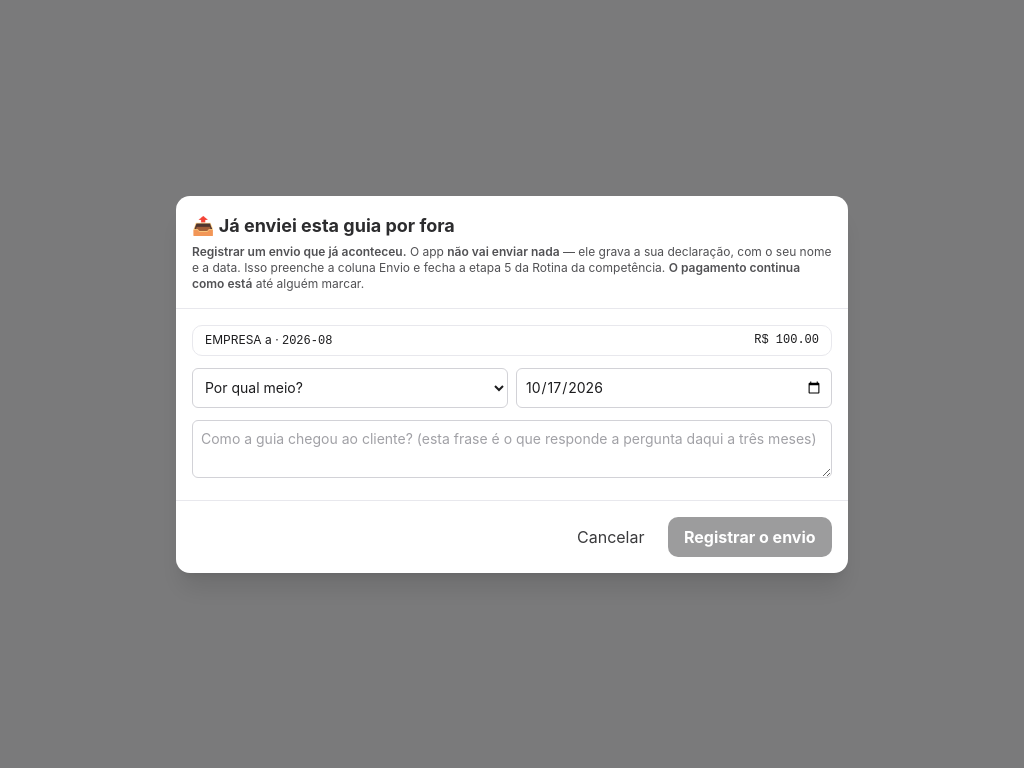
📤 a porta do envio declarado na Central de DAS › a recusa do backend (400 com a frase do que falta) aparece na tela e nada fecha
Select "WhatsApp pessoal / do escritório" in the dropdown named "Por qual meio?" at point(350, 388), box [192, 368, 508, 408]
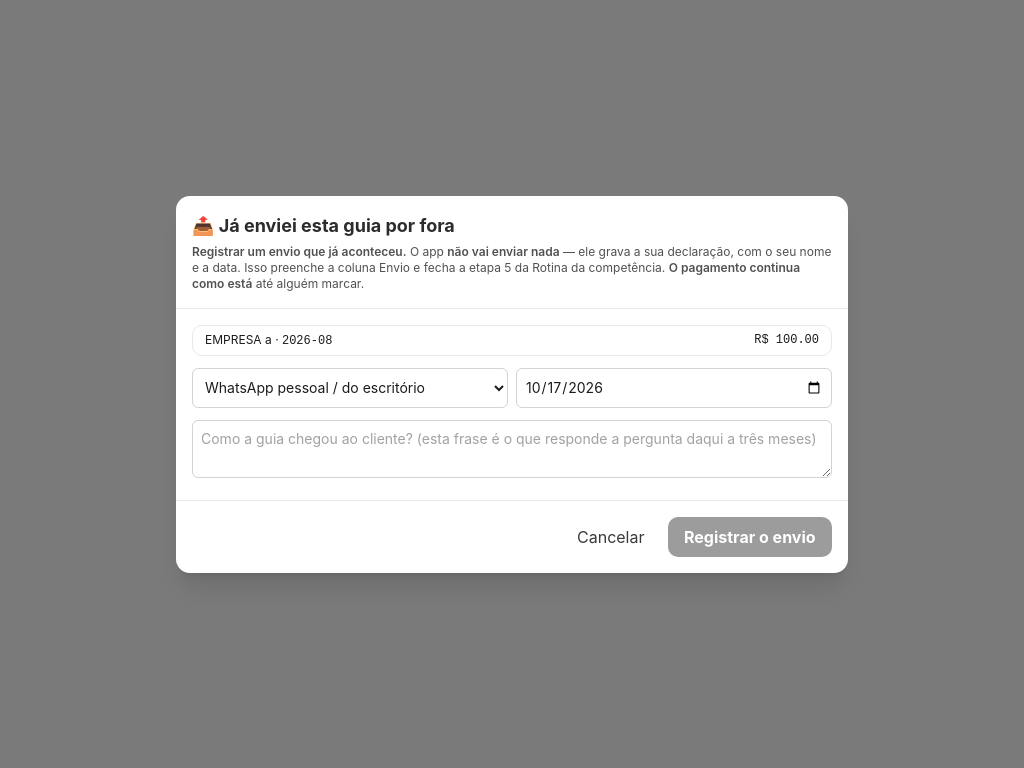
Replace the text in the text box labelled "Como a guia chegou ao cliente?" with "curto" at point(512, 448), box [192, 420, 832, 478]
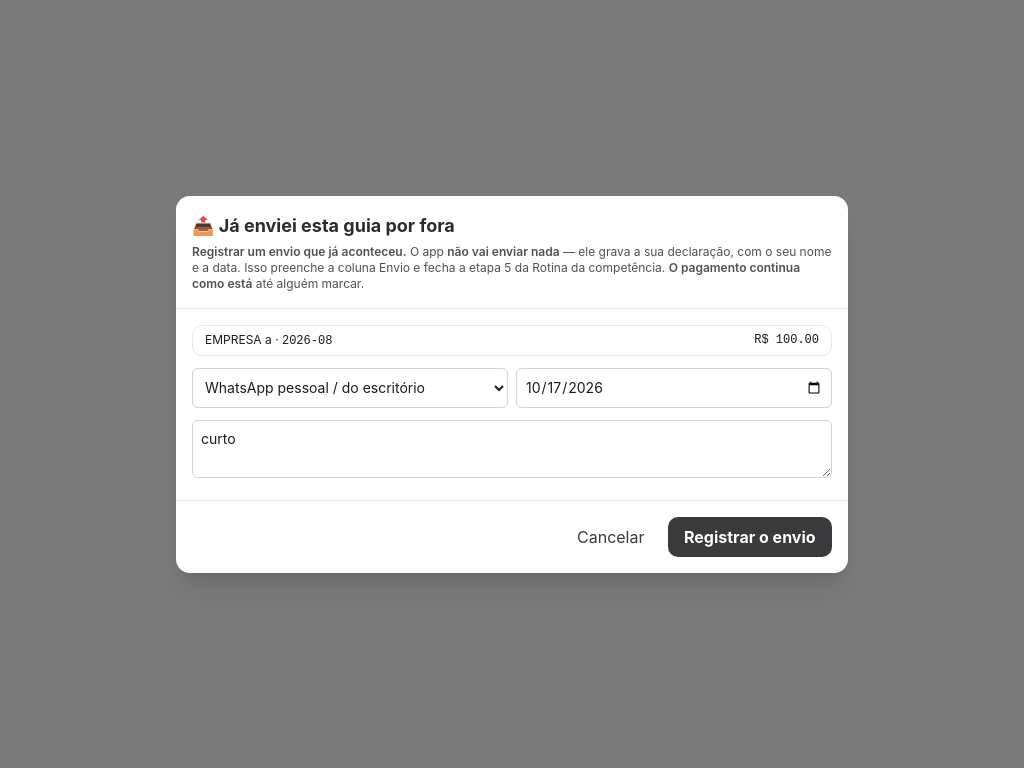
Click the button "Registrar o envio".
click(750, 536)  # box [668, 516, 832, 556]
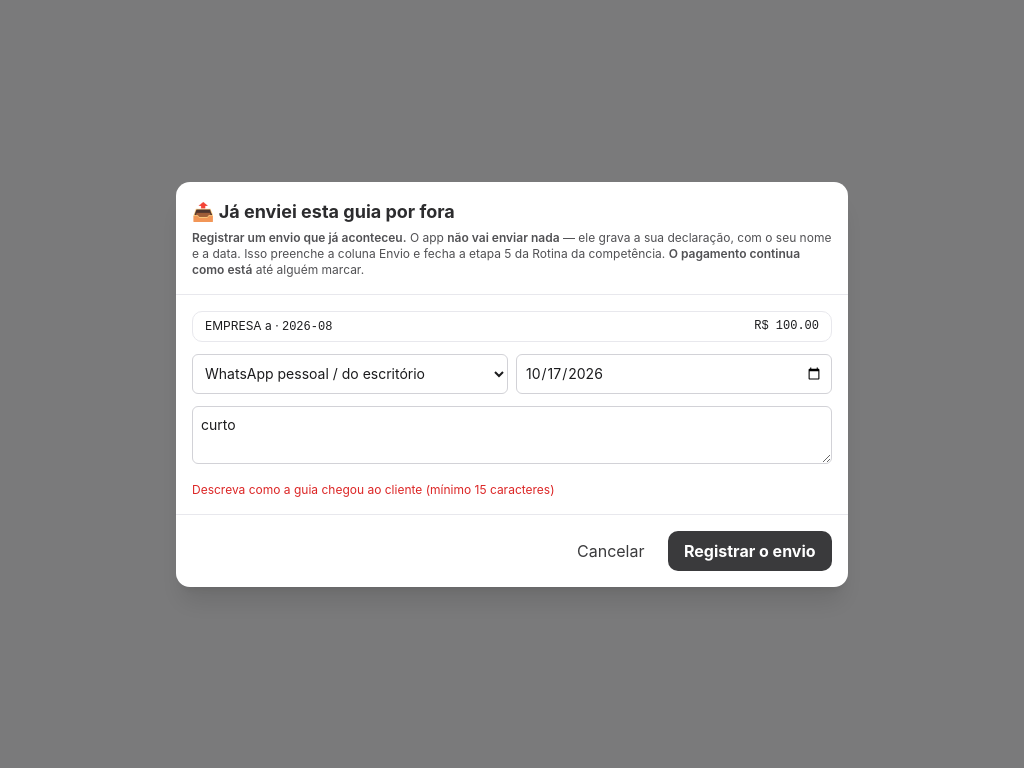
expect the message shows "mínimo 15": met, box [192, 482, 555, 496]
